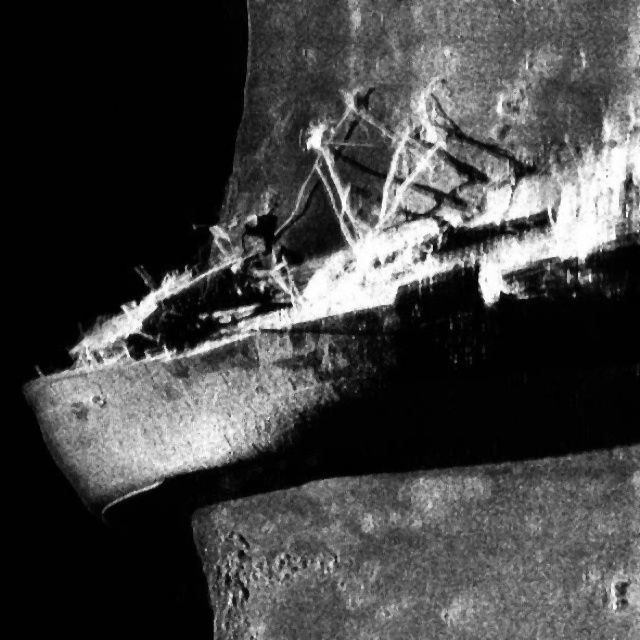Ship: (21, 64, 640, 539)
